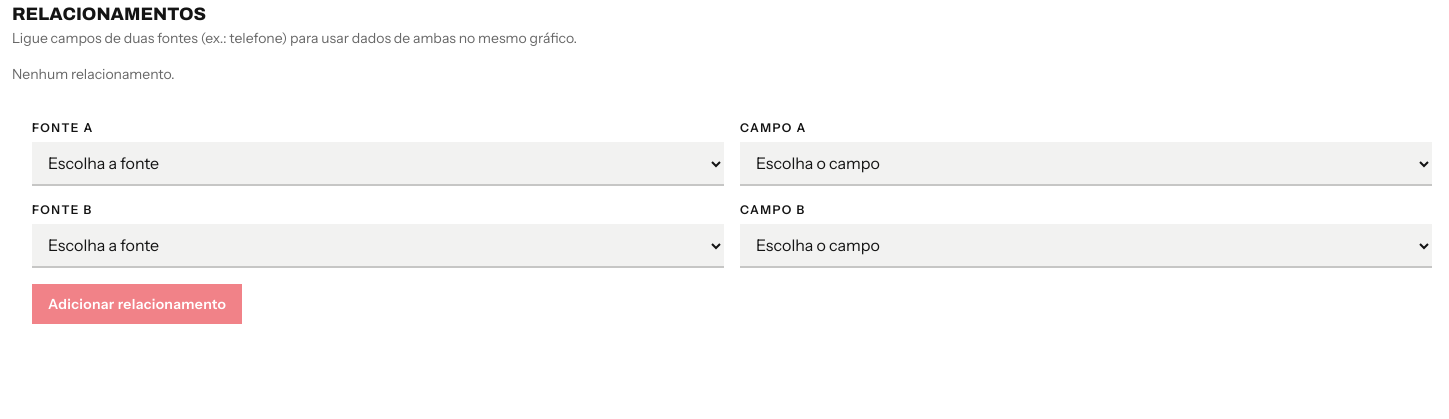
RelationshipsPanel › creates with compatible fields only and shows API errors
Select "Vendas" in the dropdown labelled "Fonte A". click: [378, 164]
box: [32,142,724,186]
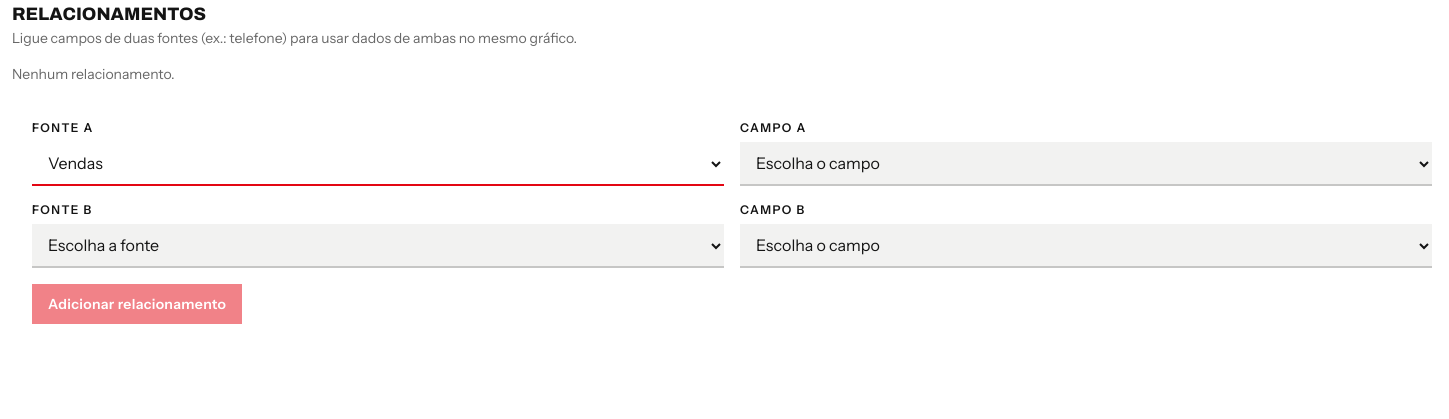
Select "telefone" in the dropdown labelled "Campo A". click: [1086, 164]
box: [740,142,1432,186]
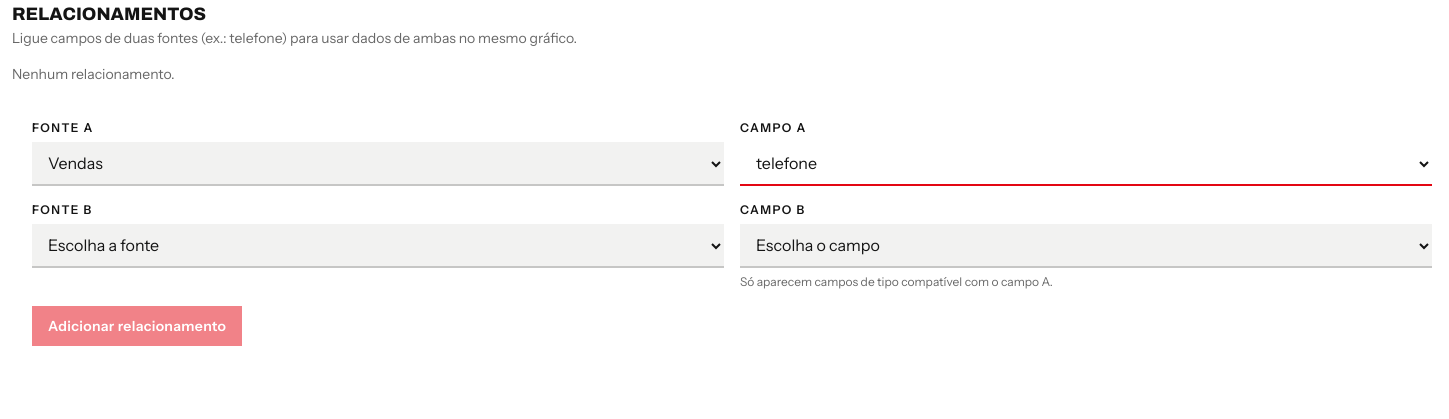
Select "Conversas do WhatsApp" in the dropdown labelled "Fonte B". click: [378, 246]
box: [32,224,724,268]
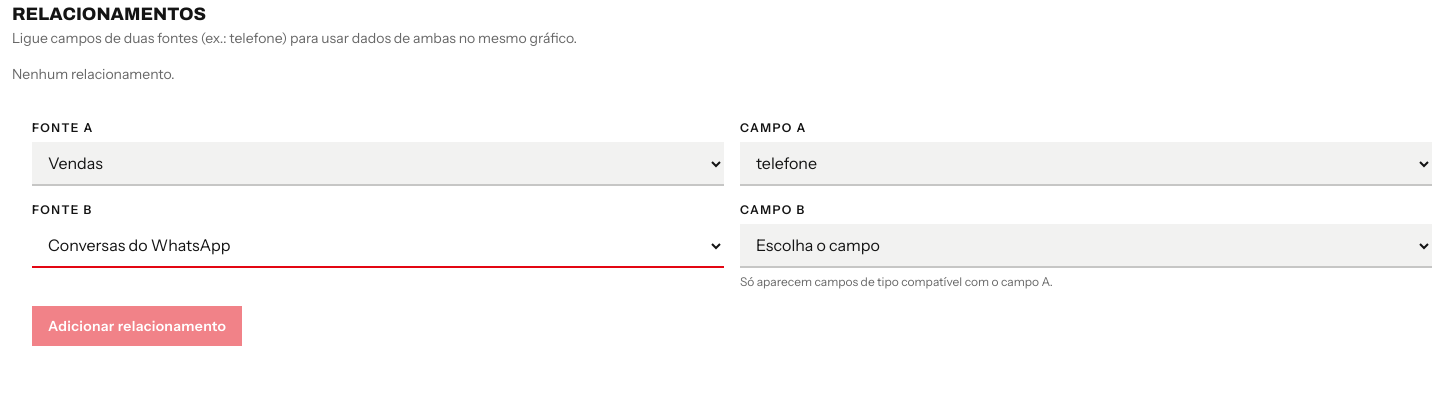
Select "telefone" in the dropdown labelled "Campo B". click: [1086, 246]
box: [740,224,1432,268]
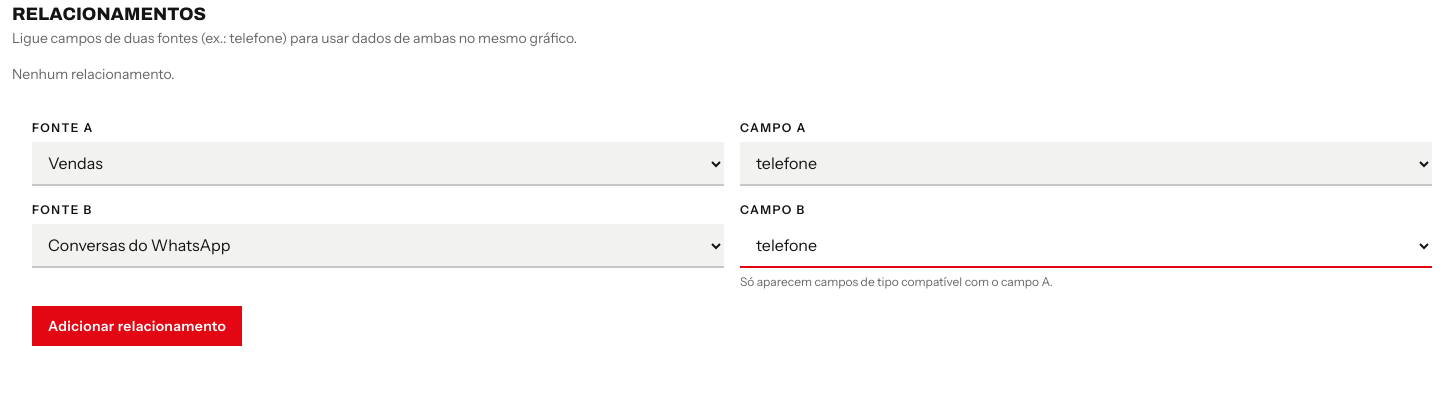
Click the button "Adicionar relacionamento". click: [137, 326]
box: [32,306,242,346]
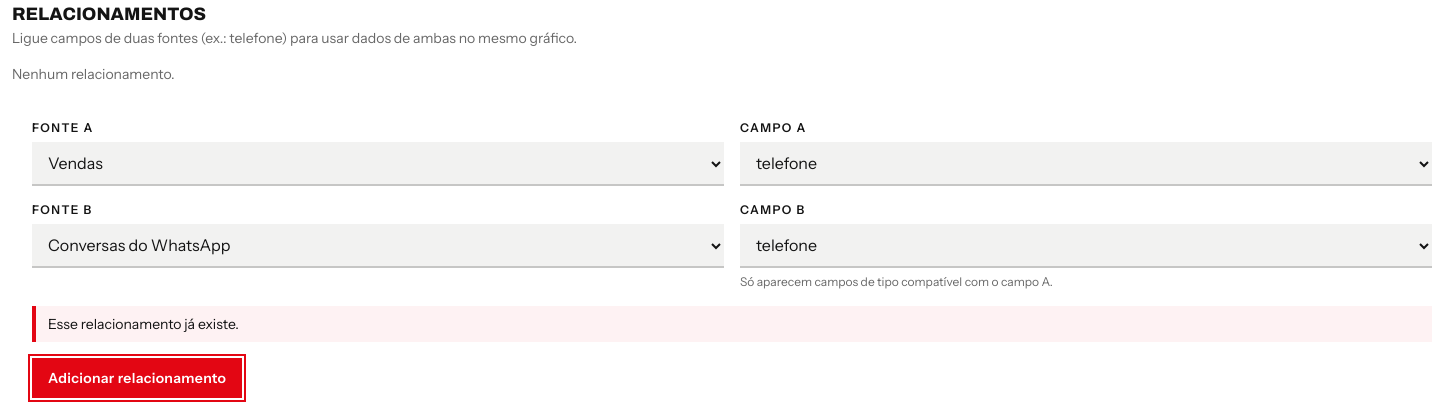
Result: the message reads "Esse relacionamento já existe." at [48,315,239,333]
